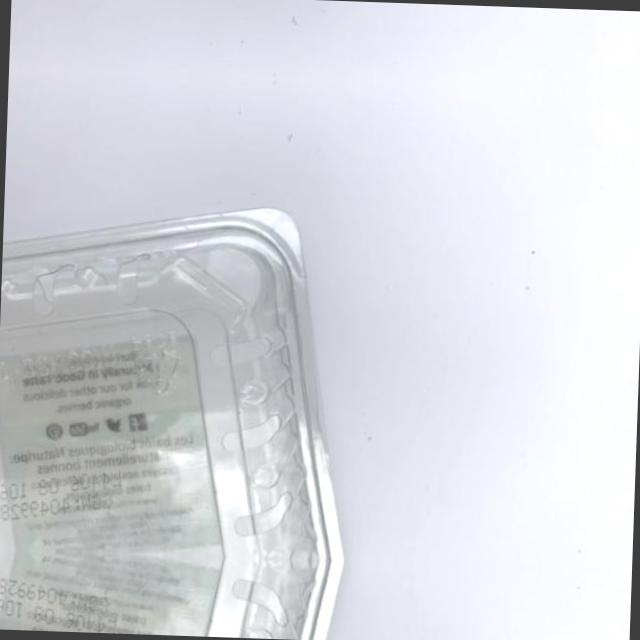Plastic: (0, 150, 358, 560), (0, 549, 345, 640)
